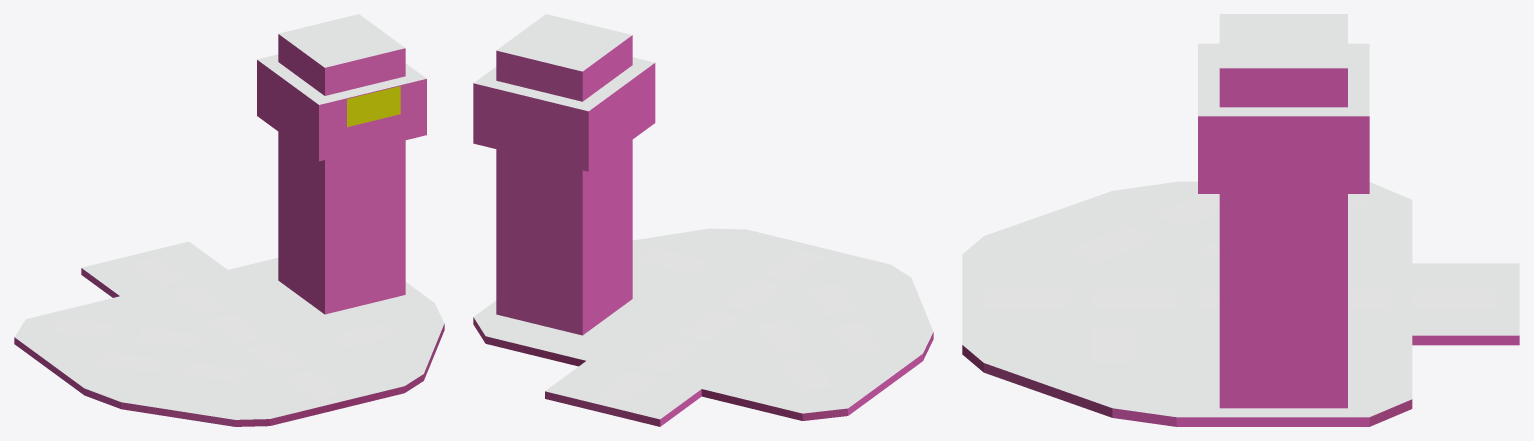
Rendered from Airport.PinkCosmos.Snow.glb.
The picture shows the model from 3 angles, left to right: view 1: azimuth 30°, elevation 25°; view 2: azimuth 150°, elevation 25°; view 3: azimuth 270°, elevation 25°; orthographic projection. The views are drawn at different scales.
Parts seen in each view (by area): view 1: Airport.PinkCosmos.Snow; view 2: Airport.PinkCosmos.Snow; view 3: Airport.PinkCosmos.Snow.
Part boxes in pixels (x1,y1,x2,y2): Airport.PinkCosmos.Snow: (14, 14, 444, 426); Airport.PinkCosmos.Snow: (473, 14, 933, 426); Airport.PinkCosmos.Snow: (962, 14, 1519, 426).
Size of the model in its own units: 2.6 by 1.8 by 2.6.
2 materials, 1 textured.
